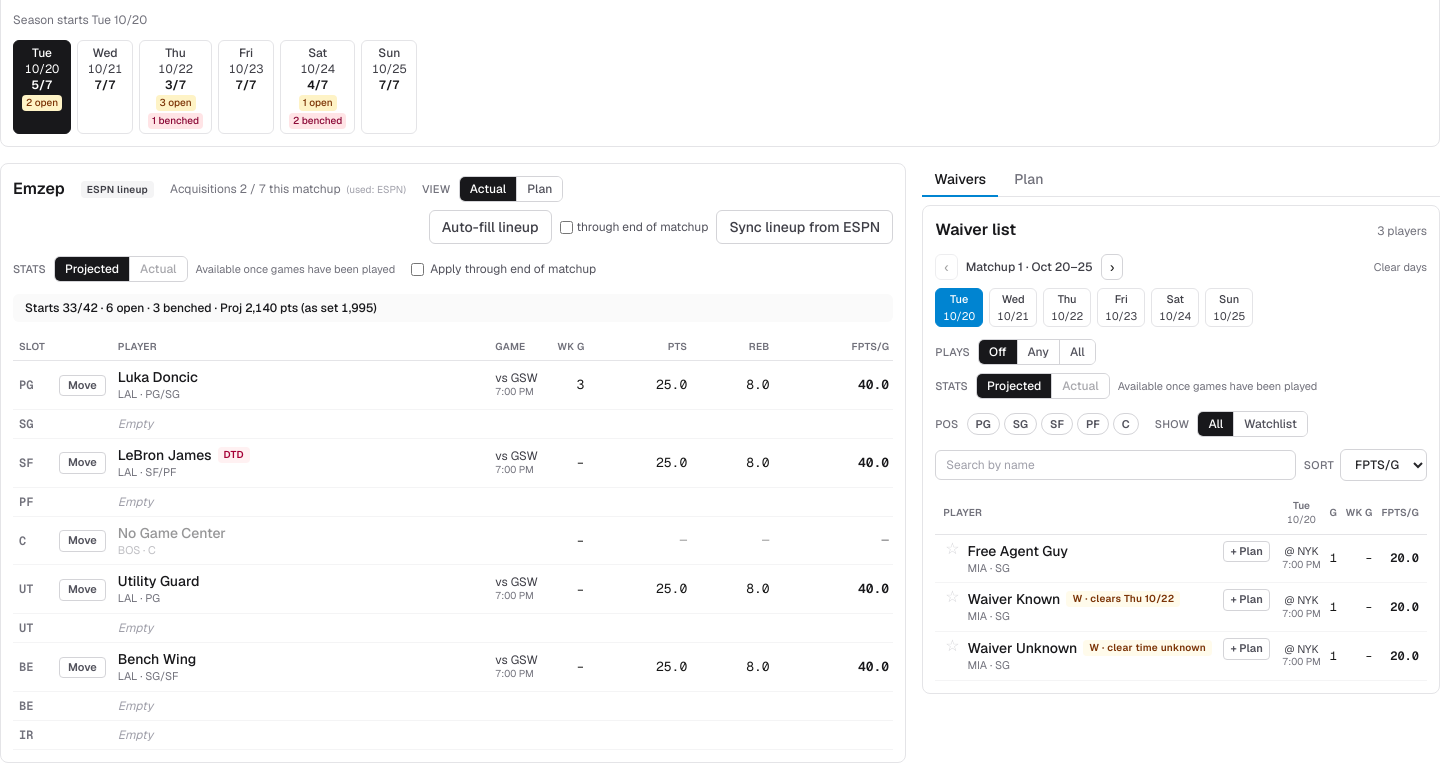
Test: moving a player › shows the server's warnings as a note
The width and height of the screenshot is (1440, 763).
Expected: the button "Luka Doncic" is shown, [118, 367, 198, 387]
Expected: the button "Free Agent Guy" is shown, [968, 541, 1068, 561]
Click the button with aria-label "Move Luka Doncic": [82, 386] box [59, 375, 106, 396]
(page scrolled)
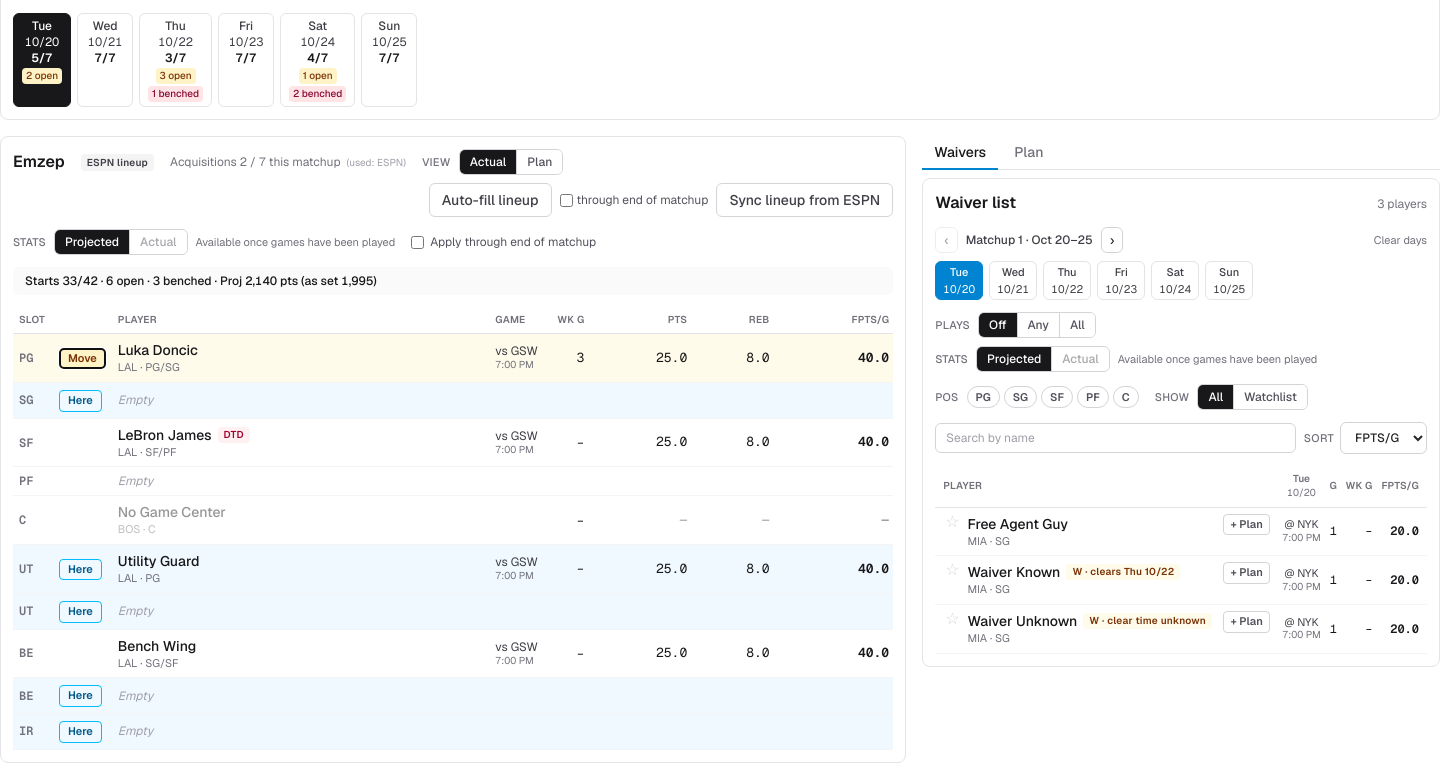
Click the button "Here" next to "IR": [80, 732] box [59, 721, 102, 743]
(page scrolled)
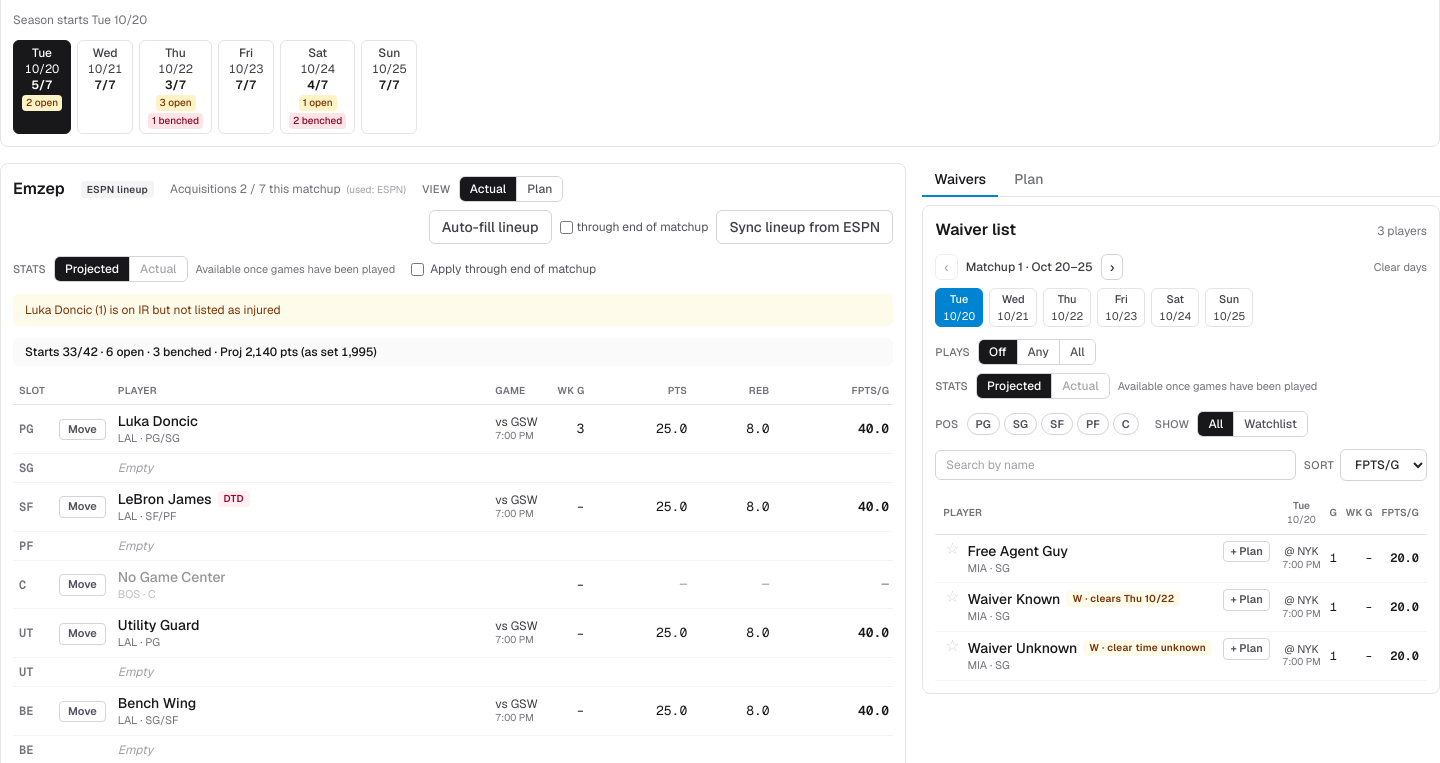
Expected: the list item "Luka Doncic (1) is on IR but not listed as injured" is shown, [25, 302, 281, 318]
